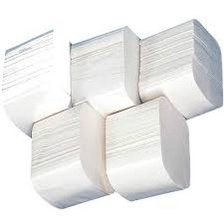tissue: (24, 96, 120, 214), (98, 91, 195, 207), (131, 14, 224, 125), (0, 24, 79, 144), (63, 22, 149, 124)
